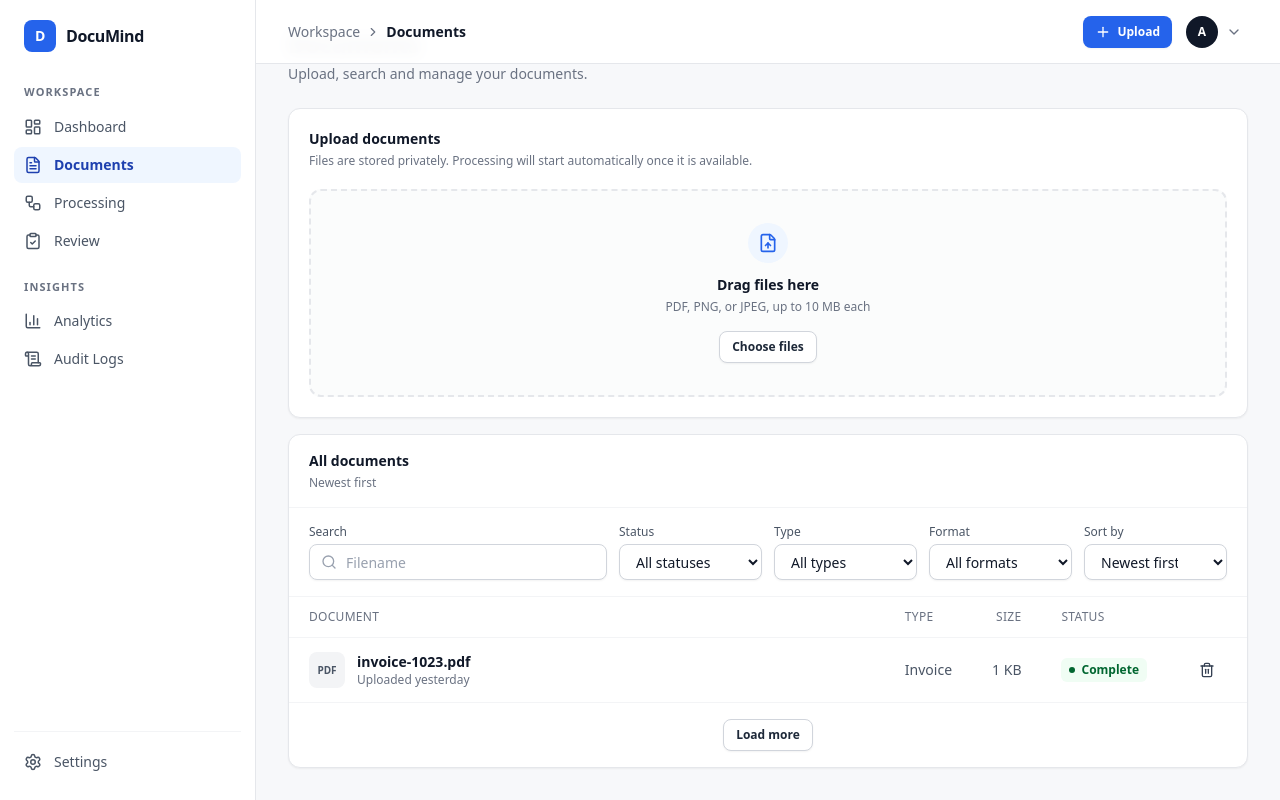
Test: DocumentsPage › search, filters and sort › drops a "load more" answer that arrives after the view changed
The width and height of the screenshot is (1280, 800).
(page scrolled)
Check: the heading "Documents" is shown, box 288,27 -> 419,60
Click the button "Load more".
click(768, 735)  # box 723,719 -> 813,751
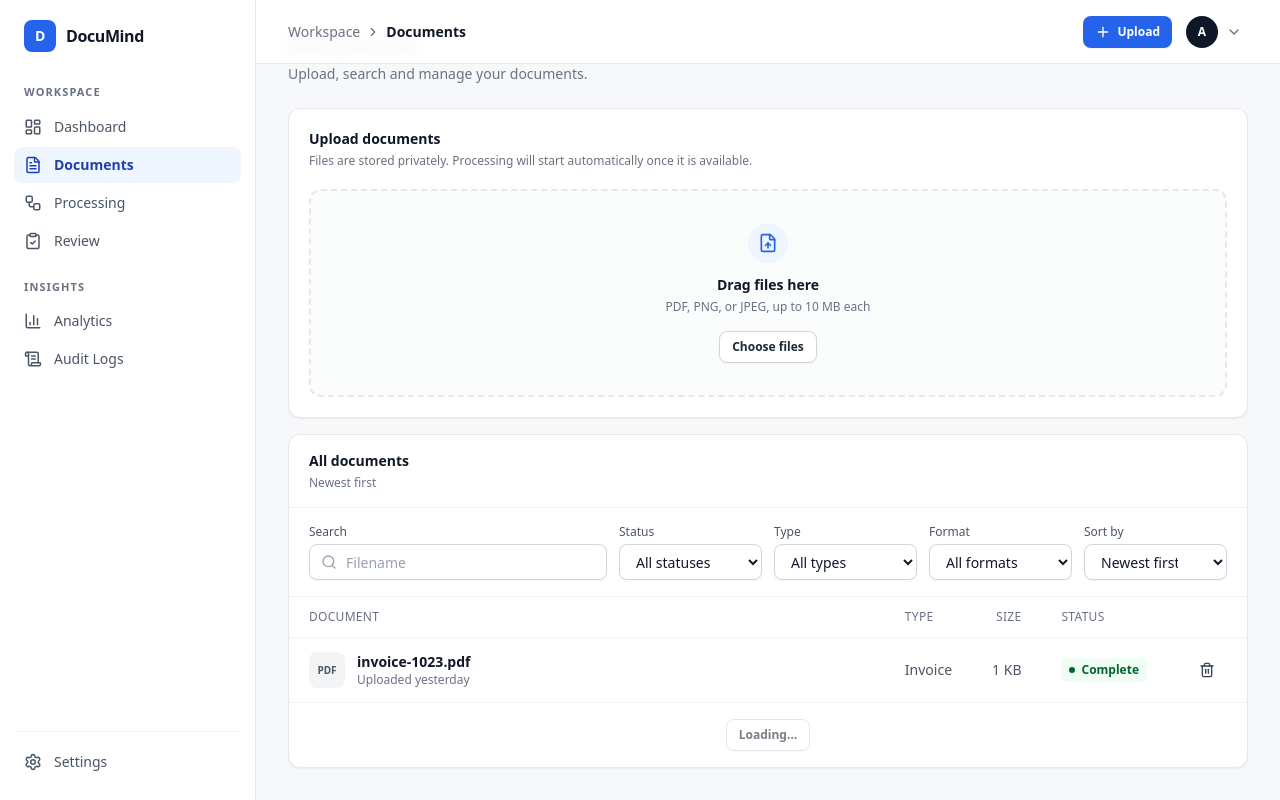
Select "Failed" in the dropdown labelled "Status" at (690, 562), box 619,544 -> 762,580
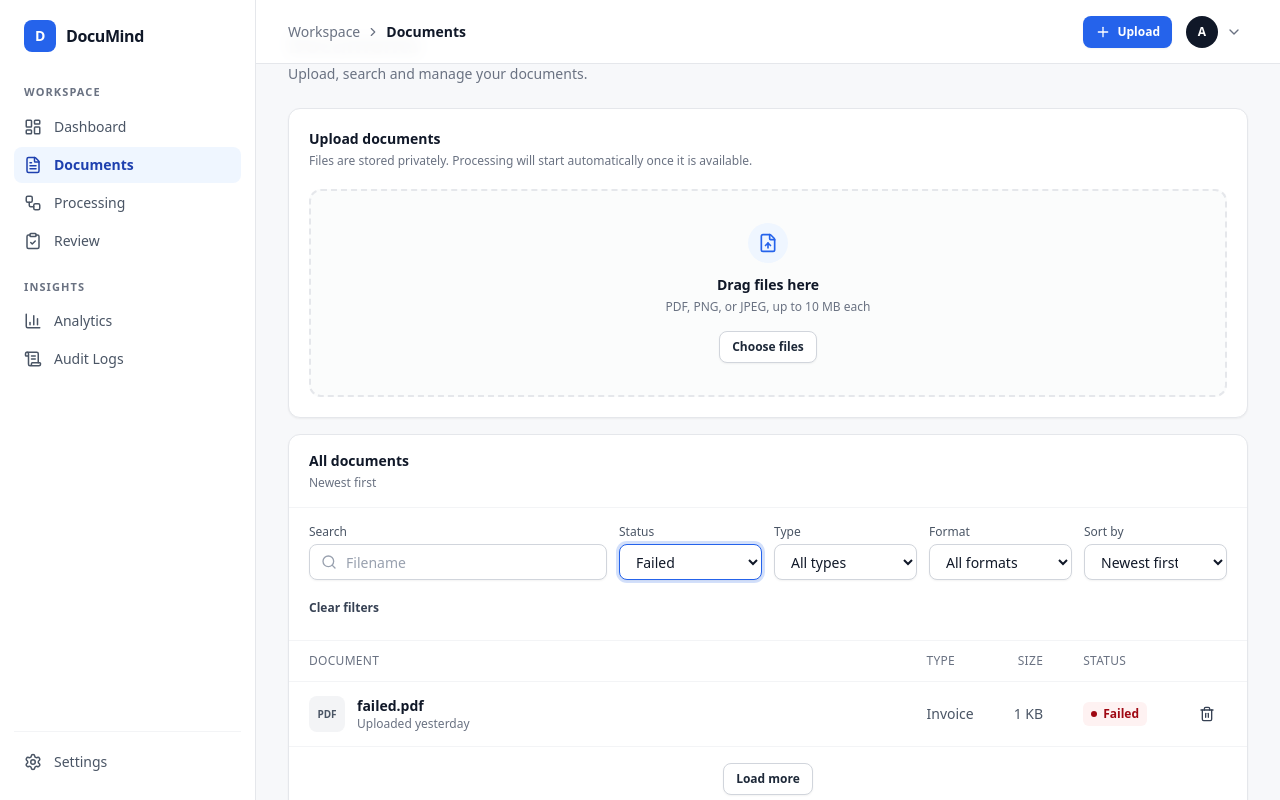
Click the button "Load more".
click(768, 779)  # box 723,763 -> 813,795
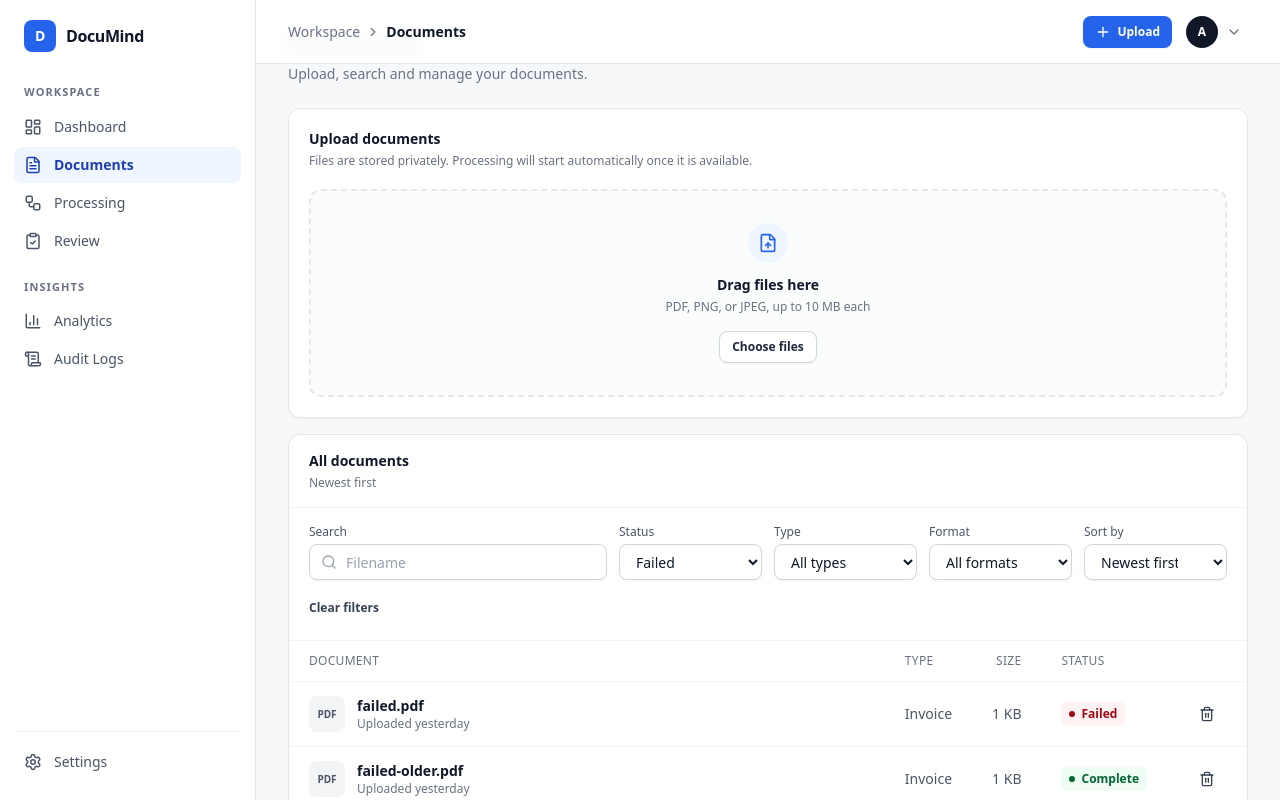
Check: the link "failed-older.pdf" is shown, box 357,761 -> 470,781
